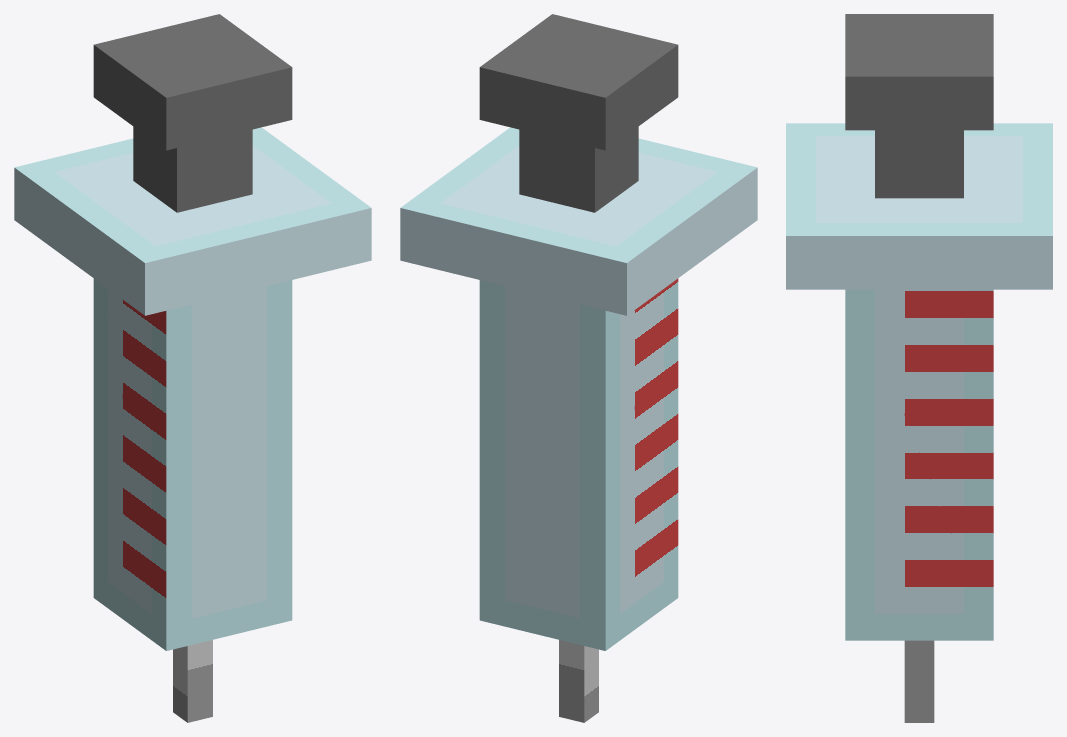
File: syringe.gltf
3 views of the same model, side by side, from view 1: azimuth 30°, elevation 25°; view 2: azimuth 150°, elevation 25°; view 3: azimuth 270°, elevation 25° (orthographic).
Parts seen in each view (by area): view 1: Body, Head; view 2: Body, Head; view 3: Body, Head.
Part boxes in pixels (x1=…): Body: x1=14, y1=127, x2=371, y2=722; Head: x1=93, y1=14, x2=292, y2=212; Body: x1=400, y1=127, x2=757, y2=722; Head: x1=479, y1=14, x2=678, y2=212; Body: x1=786, y1=123, x2=1052, y2=722; Head: x1=845, y1=14, x2=993, y2=198.
Size of the model in its own units: 9 by 25 by 9.
2 materials, 2 textured.
